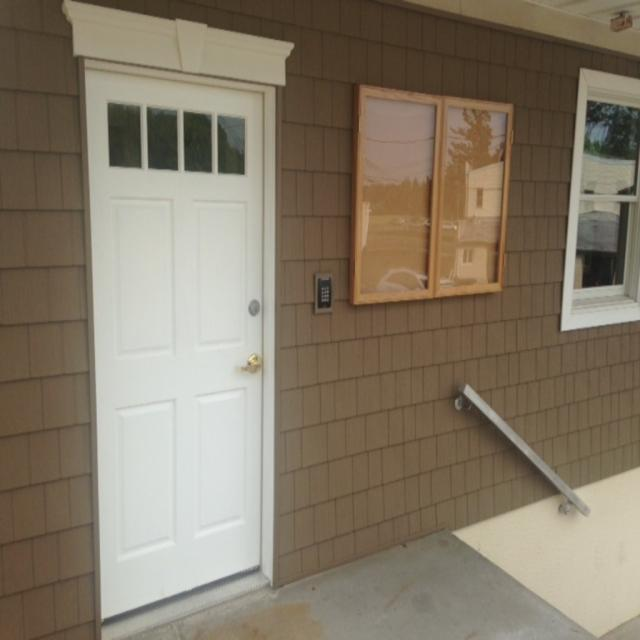door_local: (79, 51, 280, 640)
